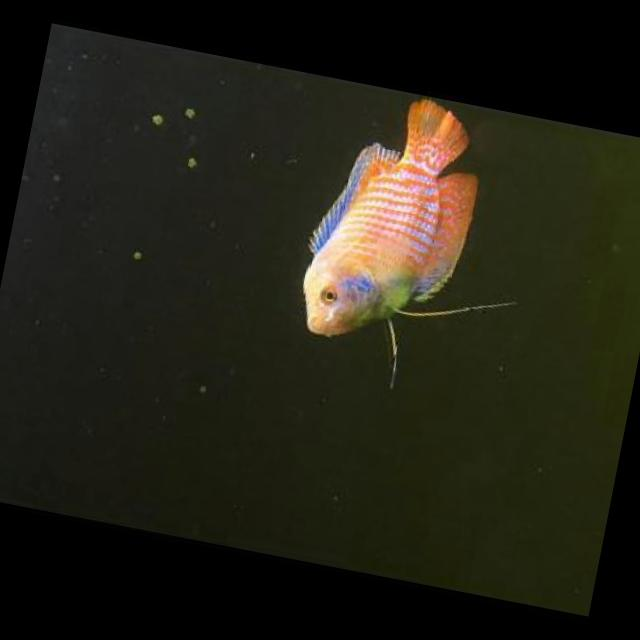Gourami: (276, 74, 502, 360)
